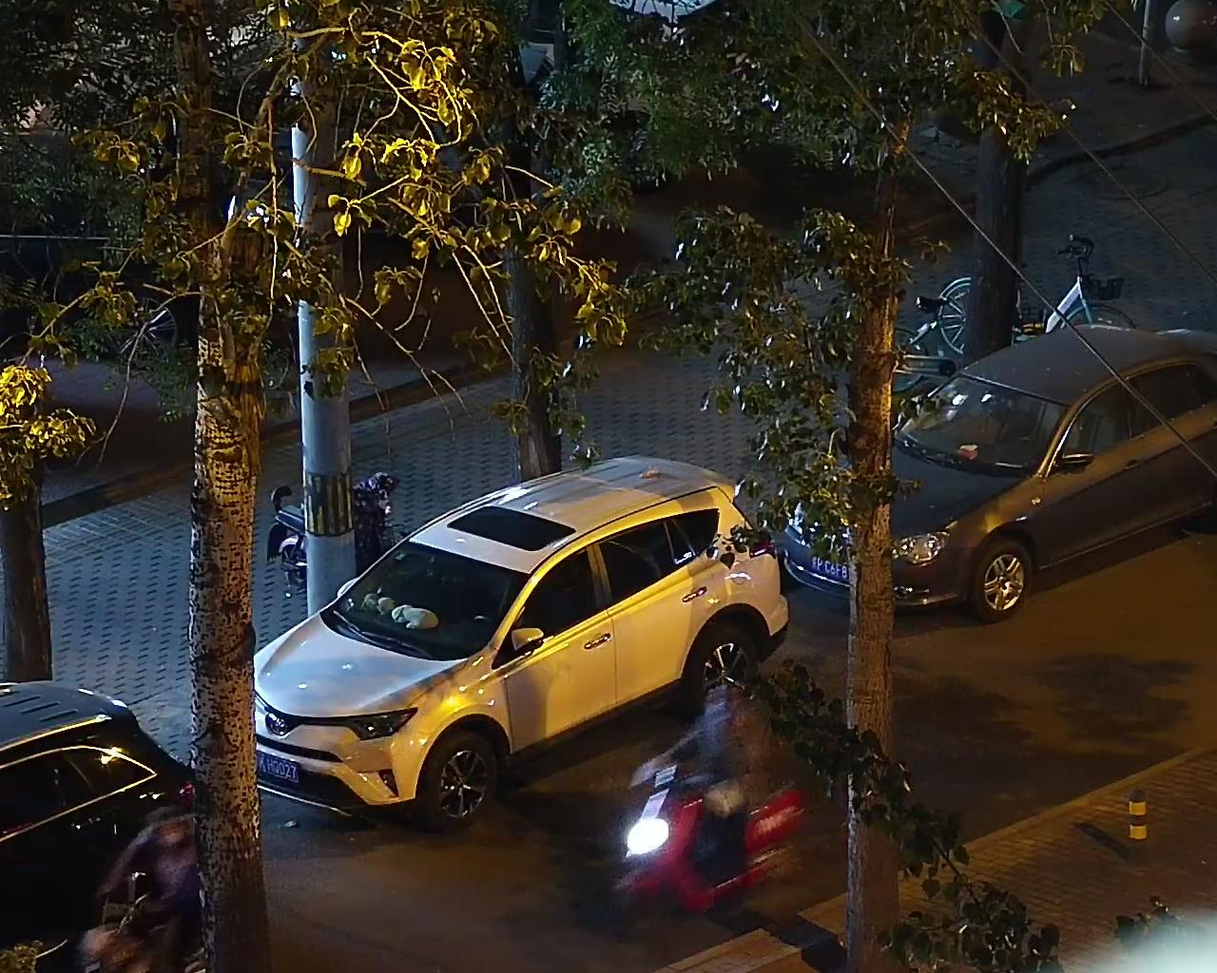person: (659, 674, 766, 908), (92, 804, 215, 973)
